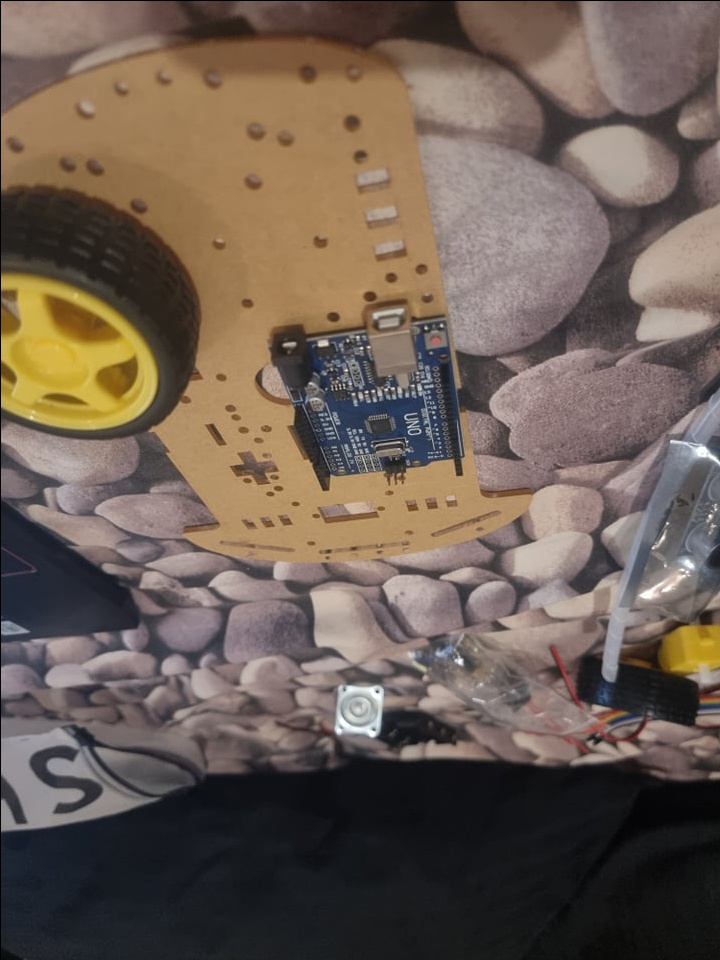BATTERY BOX: (376, 711, 457, 754)
UNO R3: (264, 297, 469, 493)
